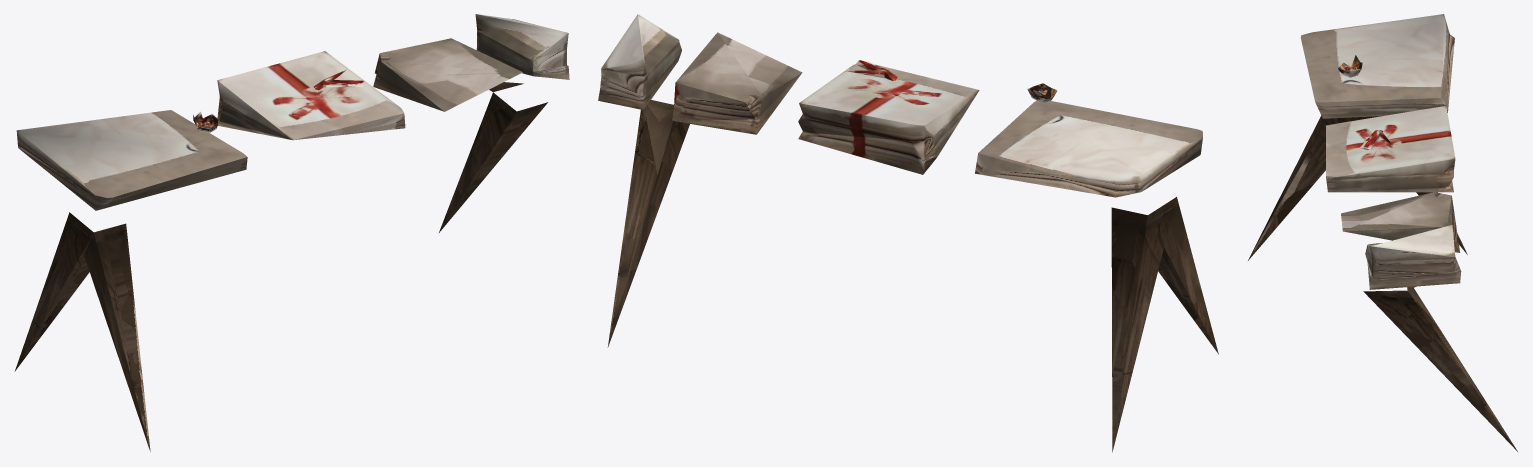
The model's file is act1_kit_v1_linen_folding_table.glb.
3 views of the same model, side by side, from view 1: azimuth 30°, elevation 25°; view 2: azimuth 150°, elevation 25°; view 3: azimuth 270°, elevation 25° (orthographic). The views are drawn at different scales.
Visible parts, largest first — view 1: A24_3_linen_folding_table; view 2: A24_3_linen_folding_table; view 3: A24_3_linen_folding_table.
Part boxes in pixels (<box>): A24_3_linen_folding_table: <box>14,14,569,451</box>; A24_3_linen_folding_table: <box>598,14,1218,452</box>; A24_3_linen_folding_table: <box>1248,14,1517,451</box>.
Bounding box in the file's own units: 0.8665 × 0.4406 × 0.4252.
Materials: 1 (1 with a texture image).
